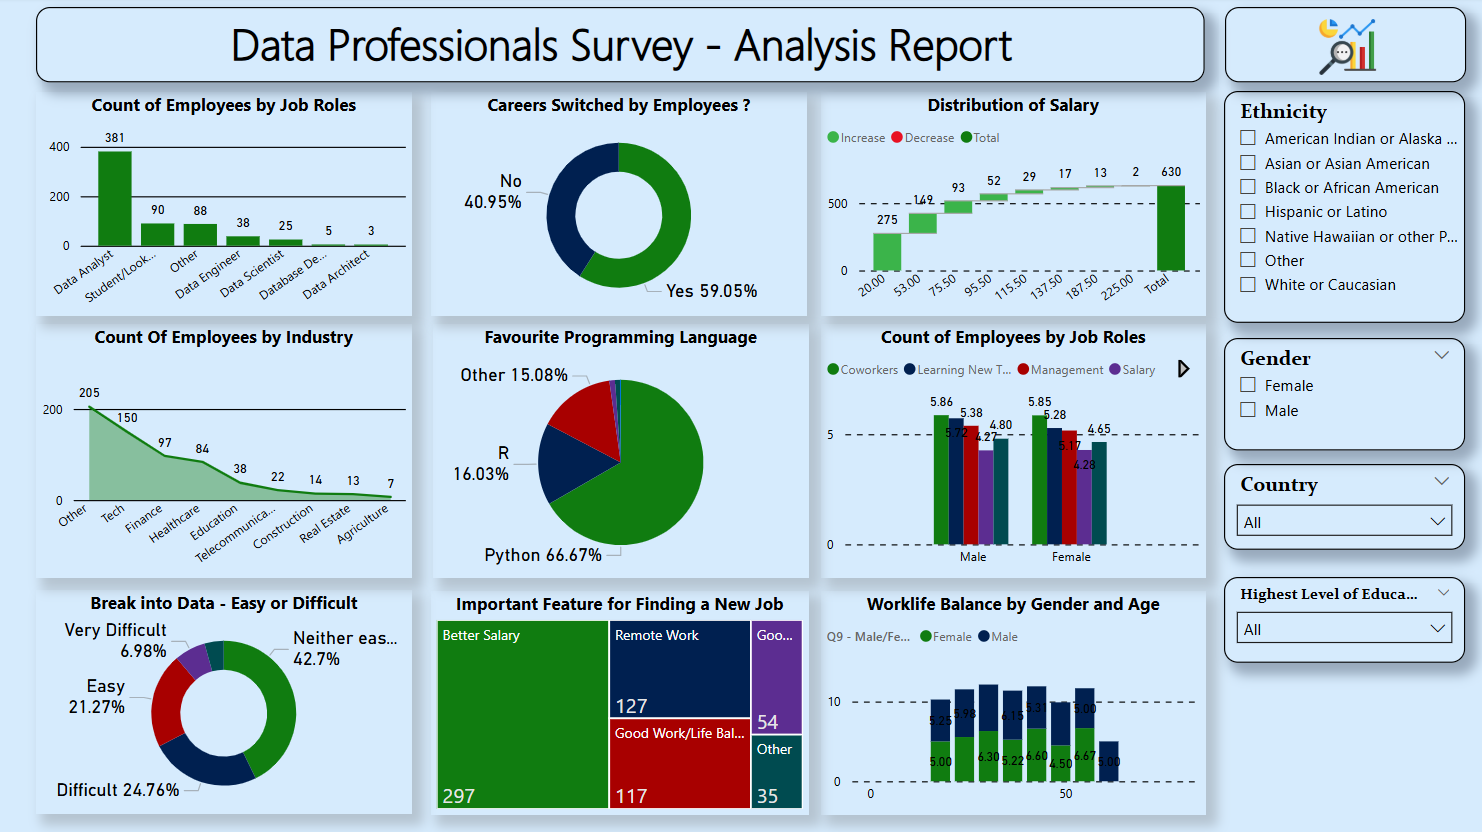

The page's visual inventory and layout, read from the dashboard file:
{"tool":"powerbi","page":{"name":"Data Professionals Survey Analysis Report","canvas":[1280,720],"ordinal":0},"visuals":[{"type":"textbox","box":[32.6,9,1007.7,65.2],"z":0},{"type":"image","box":[1058.2,8.8,208.1,65.2],"z":1000},{"type":"columnChart","title":"Count of Employees by Job Roles","fields":{"Category":["Data Professional Survey.Q1 - Which Title Best Fits your Current Role?.1"],"Y":["CountNonNull(Data Professional Survey.Unique ID)"]},"box":[33.1,81.7,323.9,192.6],"z":2000},{"type":"donutChart","title":"Careers Switched by Employees ?","fields":{"Y":["CountNonNull(Data Professional Survey.Unique ID)"],"Category":["Data Professional Survey.Q2 - Did you switch careers into Data?"]},"box":[373.5,81.7,323.9,192.6],"z":3000},{"type":"waterfallChart","title":"Distribution of Salary","fields":{"Category":["Data Professional Survey.AVG Salary 1"],"Y":["CountNonNull(Data Professional Survey.Unique ID)"]},"box":[710,81.7,331.7,192.6],"z":4000},{"type":"areaChart","title":"Count Of Employees by Industry","fields":{"Category":["Data Professional Survey.Q4 - What Industry do you work in?.1"],"Y":["CountNonNull(Data Professional Survey.Unique ID)"]},"box":[33.1,282.1,323.9,218.8],"z":5000},{"type":"pieChart","title":"Favourite Programming Language","fields":{"Y":["CountNonNull(Data Professional Survey.Unique ID)"],"Category":["Data Professional Survey.Q5 - Favorite Programming Language.1"]},"box":[375.4,282.1,323.9,218.8],"z":6000},{"type":"clusteredColumnChart","title":"Count of Employees by Job Roles","fields":{"Category":["Data Professional Survey.Q9 - Male/Female?"],"Y":["Avg(Data Professional Survey.Q6 - How Happy are you in your Current Position with the following? (Coworkers))","Avg(Data Professional Survey.Q6 - How Happy are you in your Current Position with the following? (Learning New Things))","Avg(Data Professional Survey.Q6 - How Happy are you in your Current Position with the following? (Management))","Avg(Data Professional Survey.Q6 - How Happy are you in your Current Position with the following? (Salary))","Avg(Data Professional Survey.Q6 - How Happy are you in your Current Position with the following? (Upward Mobility))"]},"box":[710,282.1,331.7,218.8],"z":7000},{"type":"donutChart","title":"Break into Data - Easy or Difficult","fields":{"Y":["CountNonNull(Data Professional Survey.Unique ID)"],"Category":["Data Professional Survey.Q7 - How difficult was it for you to break into Data?"]},"box":[33.1,511.6,323.9,192.6],"z":8000},{"type":"treemap","title":"Important Feature for Finding a New Job","fields":{"Group":["Data Professional Survey.Q8 - If you were to look for a new job today, what would be the most important t"],"Values":["CountNonNull(Data Professional Survey.Unique ID)"]},"box":[373.5,512,325.8,193.2],"z":9000},{"type":"columnChart","title":"Worklife Balance by Gender and Age","fields":{"Category":["Data Professional Survey.Q10 - Current Age (bins)"],"Series":["Data Professional Survey.Q9 - Male/Female?"],"Y":["Avg(Data Professional Survey.Q6 - How Happy are you in your Current Position with the following? (Work/Life Balance))"]},"box":[709.8,512,331.6,193.2],"z":10000},{"type":"slicer","fields":{"Values":["Data Professional Survey.Q9 - Male/Female?"]},"box":[1057.7,294.4,208.3,96.6],"z":11000},{"type":"slicer","fields":{"Values":["Data Professional Survey.Q13 - Ethnicity.1"]},"box":[1057.7,81.5,208.3,200.1],"z":12000},{"type":"slicer","fields":{"Values":["Data Professional Survey.Q11 - Which Country do you live in?.1"]},"box":[1057.7,402.6,208.3,74.5],"z":13000},{"type":"slicer","fields":{"Values":["Data Professional Survey.Q12 - Highest Level of Education"]},"box":[1057.7,500.4,208.3,74.5],"z":14000}]}

Visuals, with their boxes in screenshot pixels (x1, y1, x2, y2), scaled from the page's 1280x720 canvas onto the 1482x832 screenshot:
textbox: box=[38, 10, 1204, 86]
image: box=[1225, 10, 1466, 86]
"Count of Employees by Job Roles" columnChart: box=[38, 94, 413, 317]
"Careers Switched by Employees ?" donutChart: box=[432, 94, 807, 317]
"Distribution of Salary" waterfallChart: box=[822, 94, 1206, 317]
"Count Of Employees by Industry" areaChart: box=[38, 326, 413, 579]
"Favourite Programming Language" pieChart: box=[435, 326, 810, 579]
"Count of Employees by Job Roles" clusteredColumnChart: box=[822, 326, 1206, 579]
"Break into Data - Easy or Difficult" donutChart: box=[38, 591, 413, 814]
"Important Feature for Finding a New Job" treemap: box=[432, 592, 810, 815]
"Worklife Balance by Gender and Age" columnChart: box=[822, 592, 1206, 815]
slicer - Data Professional Survey.Q9 - Male/Female?: box=[1225, 340, 1466, 452]
slicer - Data Professional Survey.Q13 - Ethnicity.1: box=[1225, 94, 1466, 325]
slicer - Data Professional Survey.Q11 - Which Country do you live in?.1: box=[1225, 465, 1466, 551]
slicer - Data Professional Survey.Q12 - Highest Level of Education: box=[1225, 578, 1466, 664]
